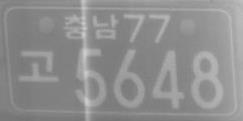4: (151, 48, 184, 110)
5: (73, 46, 108, 108)
6: (111, 47, 146, 109)
7: (146, 11, 172, 44), (121, 12, 146, 42)
8: (189, 48, 225, 111)
고: (16, 48, 60, 83)
충남_O: (63, 12, 119, 40)
